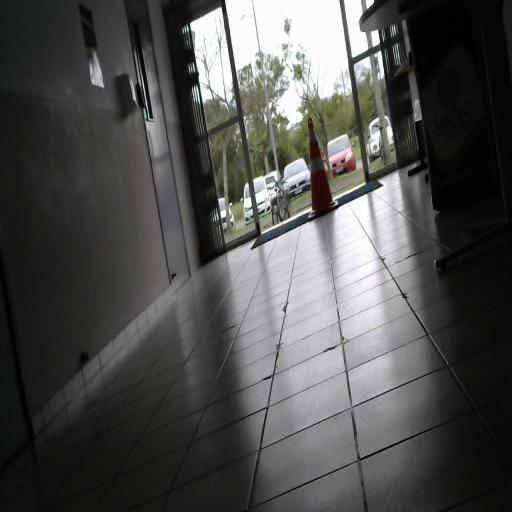cone: (307, 117, 338, 218)
